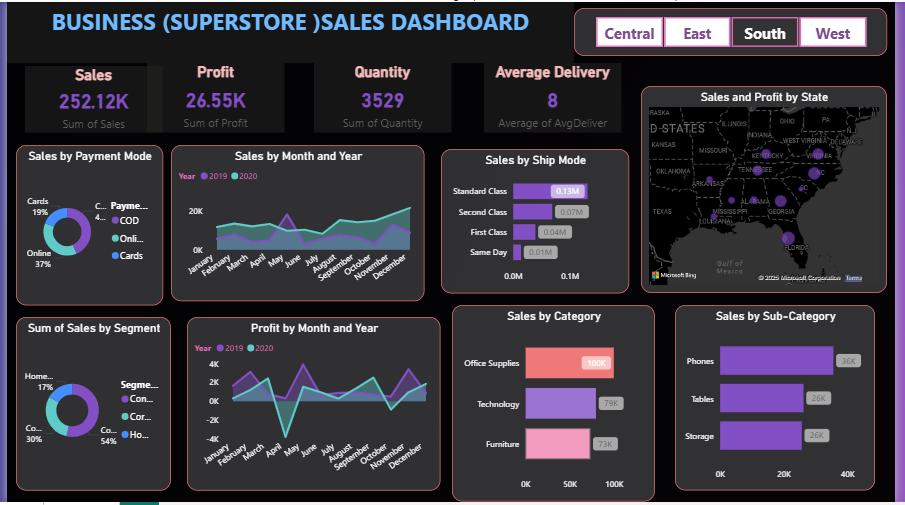

The dashboard page shown, as its layout file describes it:
{"tool":"powerbi","page":{"name":"Page 1","canvas":[1280,720],"ordinal":0},"visuals":[{"type":"clusteredBarChart","title":"Sales by Category","fields":{"Category":["SuperStore_Sales_Dataset.Category"],"Y":["Sum(SuperStore_Sales_Dataset.Sales)"]},"box":[640.4,436.5,292.3,282.7],"z":0},{"type":"clusteredBarChart","title":"Sales by Sub-Category","fields":{"Category":["SuperStore_Sales_Dataset.Sub-Category"],"Y":["Sum(SuperStore_Sales_Dataset.Sales)"]},"box":[961.5,436.5,288.5,267.3],"z":1000},{"type":"clusteredBarChart","title":"Sales by Ship Mode","fields":{"Category":["SuperStore_Sales_Dataset.Ship Mode","SuperStore_Sales_Dataset.Category"],"Y":["Sum(SuperStore_Sales_Dataset.Sales)"]},"box":[625,211.5,271.2,207.7],"z":2000},{"type":"map","title":"Sales and Profit by State","fields":{"Category":["SuperStore_Sales_Dataset.State"],"Size":["Sum(SuperStore_Sales_Dataset.Sales)"]},"box":[913.5,121.2,353.8,298.1],"z":3000},{"type":"areaChart","title":"Profit by Month and Year","fields":{"Series":["SuperStore_Sales_Dataset.Order Date.Variation.Date Hierarchy.Year"],"Category":["SuperStore_Sales_Dataset.Order Date.Variation.Date Hierarchy.Month","SuperStore_Sales_Dataset.Order Date.Variation.Date Hierarchy.Day"],"Y":["Sum(SuperStore_Sales_Dataset.Profit)"]},"box":[259.6,453.8,365.4,250],"z":4000},{"type":"areaChart","title":"Sales by Month and Year","fields":{"Series":["SuperStore_Sales_Dataset.Order Date.Variation.Date Hierarchy.Year"],"Category":["SuperStore_Sales_Dataset.Order Date.Variation.Date Hierarchy.Month","SuperStore_Sales_Dataset.Order Date.Variation.Date Hierarchy.Day"],"Y":["Sum(SuperStore_Sales_Dataset.Sales)"]},"box":[236.5,205.8,365.4,225],"z":5000},{"type":"donutChart","fields":{"Category":["SuperStore_Sales_Dataset.Segment"],"Y":["Sum(SuperStore_Sales_Dataset.Sales)"]},"box":[13.5,453.8,223.1,250],"z":6000},{"type":"donutChart","title":"Sales by Payment Mode","fields":{"Category":["SuperStore_Sales_Dataset.Payment Mode"],"Y":["Sum(SuperStore_Sales_Dataset.Sales)"]},"box":[13.5,205.8,211.5,230.8],"z":7000},{"type":"slicer","fields":{"Values":["SuperStore_Sales_Dataset.Region"]},"box":[816.5,8.5,450.8,69.5],"z":8000},{"type":"textbox","box":[0,0,816.5,87.9],"z":9000},{"type":"card","title":"Sales","fields":{"Values":["Sum(SuperStore_Sales_Dataset.Sales)"]},"box":[25.5,91.5,197.9,95.7],"z":10000},{"type":"card","title":"Profit","fields":{"Values":["Sum(SuperStore_Sales_Dataset.Profit)"]},"box":[202.1,87.2,197.9,100],"z":11000},{"type":"card","title":"Quantity","fields":{"Values":["Sum(SuperStore_Sales_Dataset.Quantity)"]},"box":[442.6,87.2,197.9,100],"z":12000},{"type":"card","title":"Average Delivery","fields":{"Values":["Avg(SuperStore_Sales_Dataset.AvgDeliver)"]},"box":[687.2,87.2,197.9,100],"z":13000}]}

Visuals, with their boxes in screenshot pixels (x1, y1, x2, y2), scaled from the page's 1280x720 canvas onto the 905x505 screenshot:
"Sales by Category" clusteredBarChart: (453, 306, 659, 504)
"Sales by Sub-Category" clusteredBarChart: (680, 306, 884, 494)
"Sales by Ship Mode" clusteredBarChart: (442, 148, 634, 294)
"Sales and Profit by State" map: (646, 85, 896, 294)
"Profit by Month and Year" areaChart: (184, 318, 442, 494)
"Sales by Month and Year" areaChart: (167, 144, 426, 302)
donutChart - SuperStore_Sales_Dataset.Segment x Sum(SuperStore_Sales_Dataset.Sales): (10, 318, 167, 494)
"Sales by Payment Mode" donutChart: (10, 144, 159, 306)
slicer - SuperStore_Sales_Dataset.Region: (577, 6, 896, 55)
textbox: (0, 0, 577, 62)
"Sales" card: (18, 64, 158, 131)
"Profit" card: (143, 61, 283, 131)
"Quantity" card: (313, 61, 453, 131)
"Average Delivery" card: (486, 61, 626, 131)
